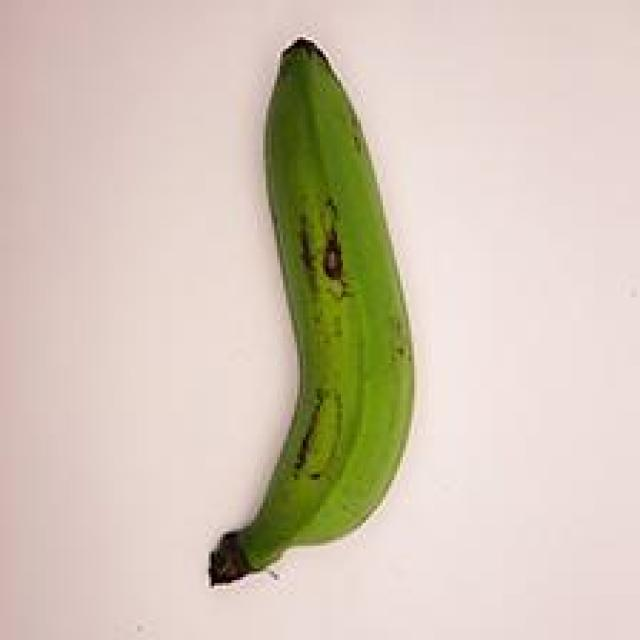Raw: (164, 14, 458, 610)
